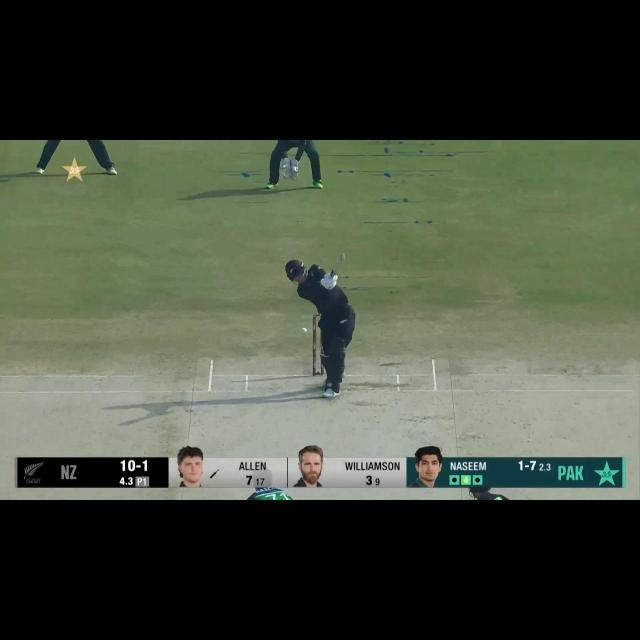bat: (326, 252, 346, 280)
toe: (337, 251, 348, 262)
